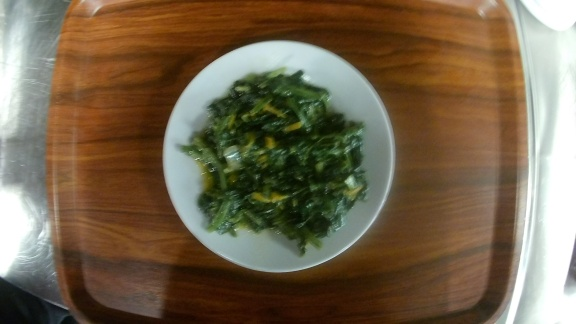ispanak: (158, 39, 401, 277)
